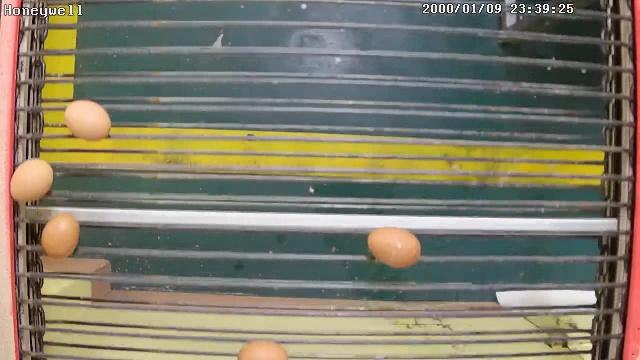egg: (365, 224, 424, 270), (8, 156, 56, 206), (64, 99, 114, 142), (39, 211, 81, 260)
